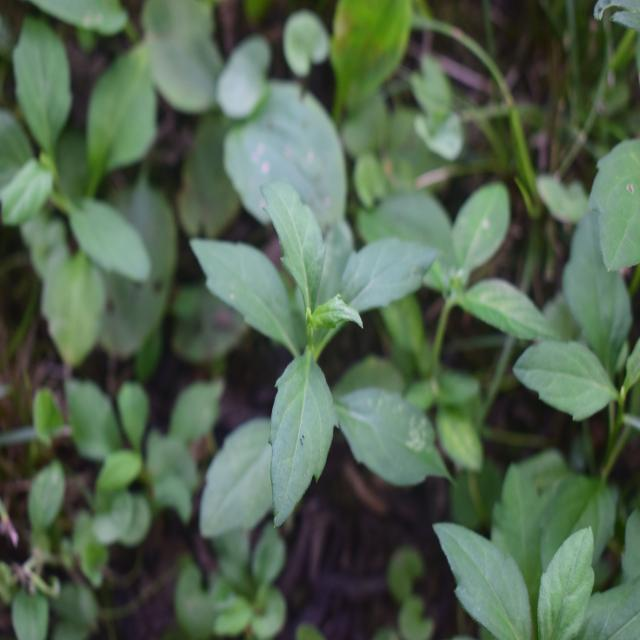Indian aster: (213, 213, 459, 536)
